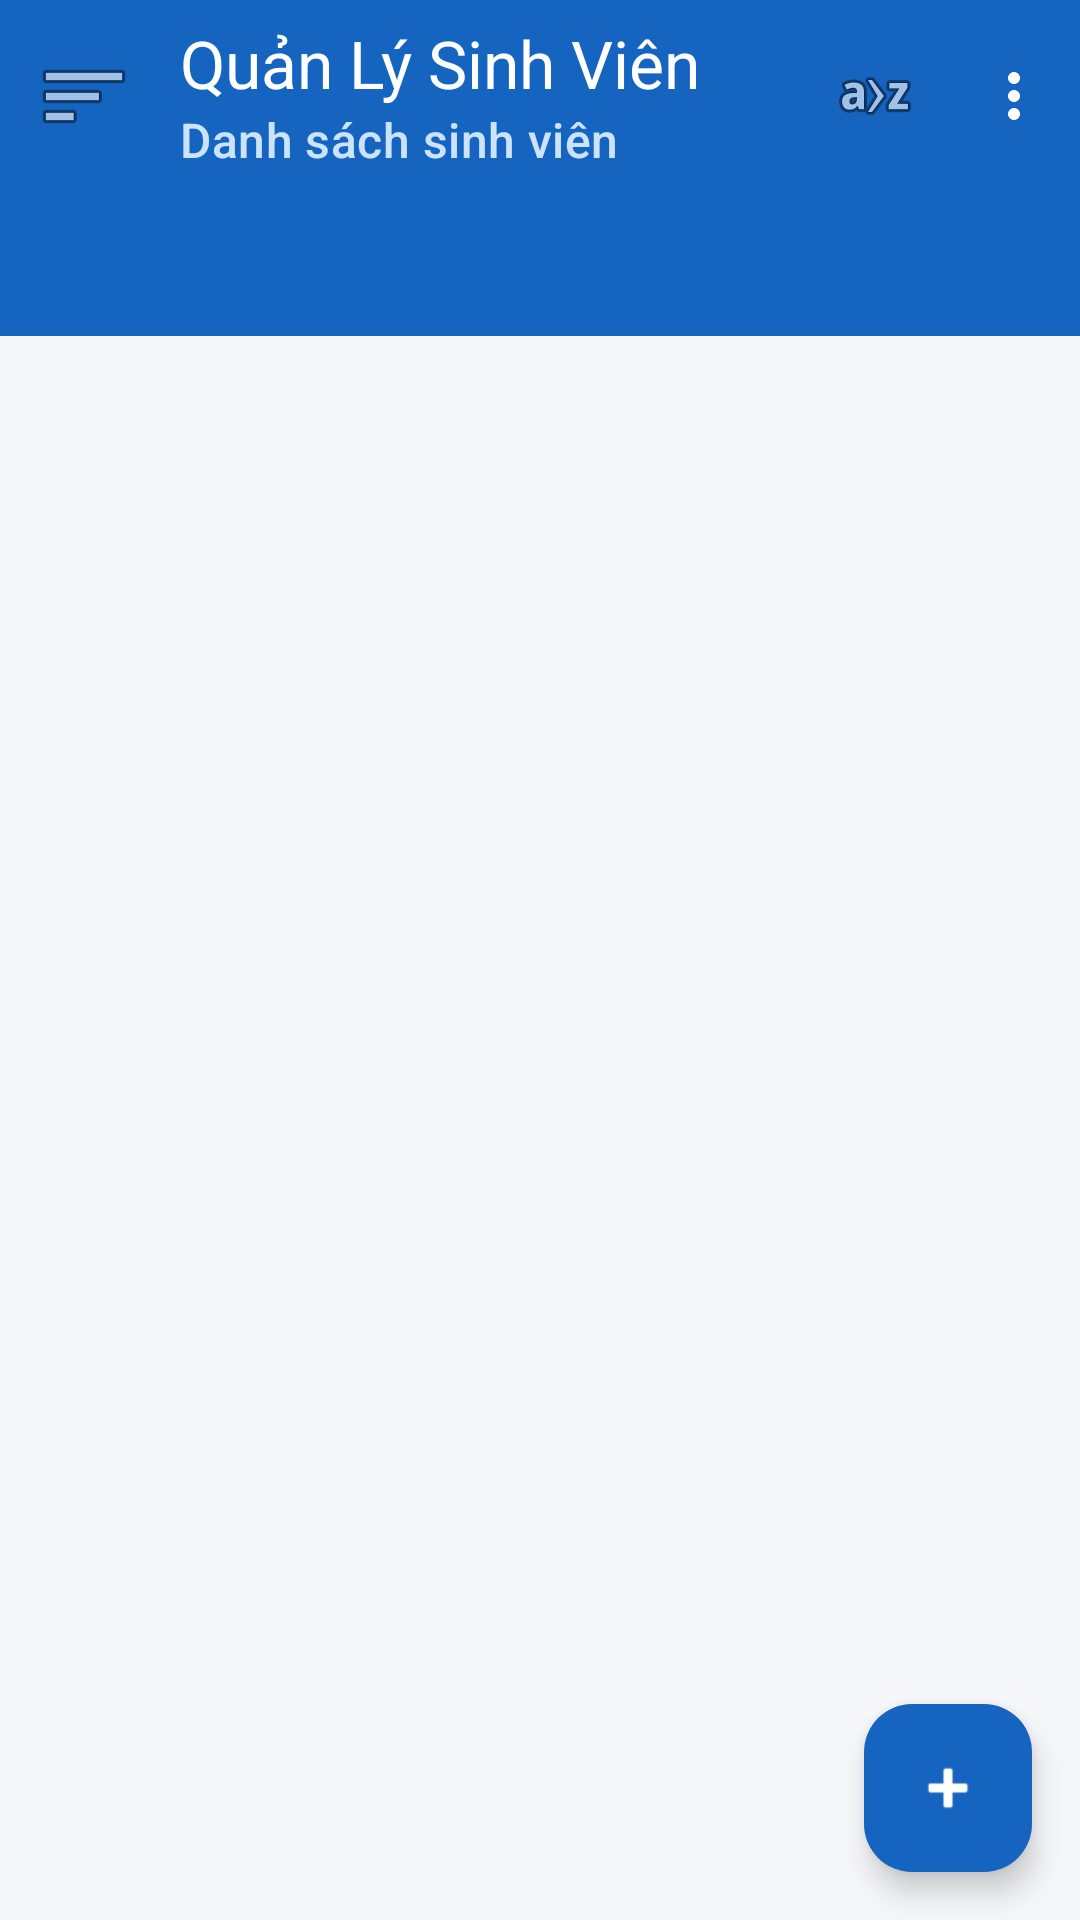

Where to tap for icons on this 1080 × 1920 app screen, as [x,y]:
Thêm sinh viên mới: [948,1788]
